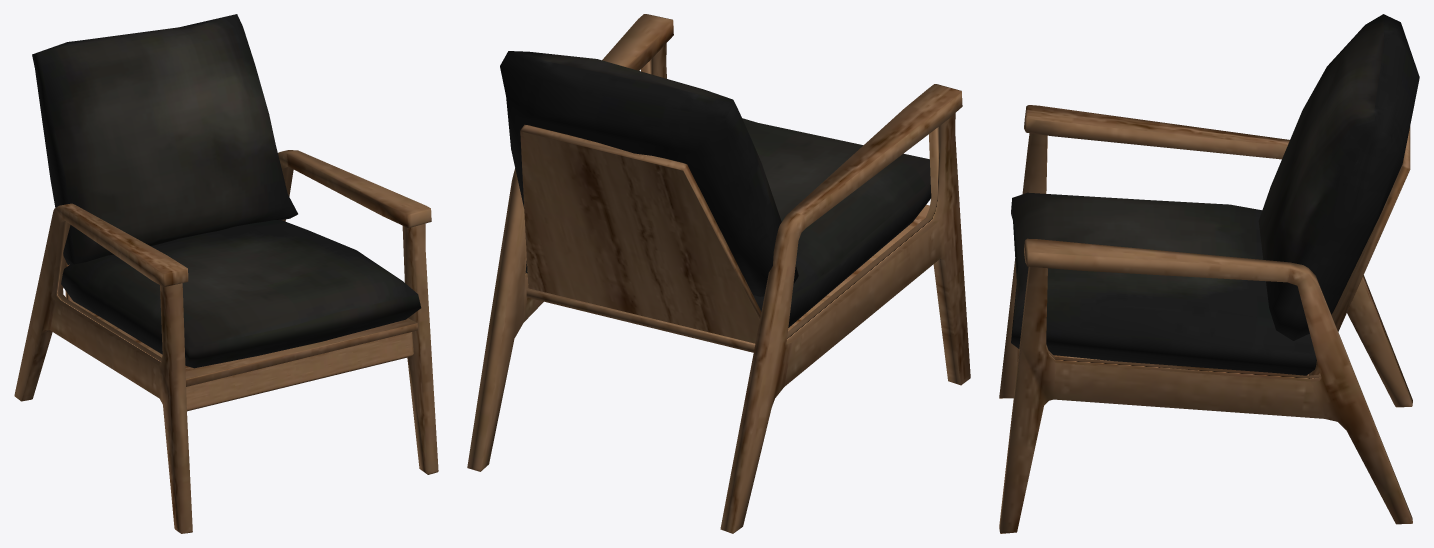
The model's file is modern_arm_chair_01.glb.
3 views of the same model, side by side, from view 1: azimuth 30°, elevation 25°; view 2: azimuth 150°, elevation 25°; view 3: azimuth 270°, elevation 25° (orthographic). The views are drawn at different scales.
Visible parts, largest first — view 1: modern_arm_chair_01; view 2: modern_arm_chair_01; view 3: modern_arm_chair_01.
Boxes of the visible parts, <box> form: modern_arm_chair_01: <box>14,14,438,533</box>; modern_arm_chair_01: <box>467,14,970,533</box>; modern_arm_chair_01: <box>999,14,1419,533</box>.
Size of the model in its own units: 0.8173 by 1.02 by 0.9864.
Materials: 2 (2 with a texture image).
